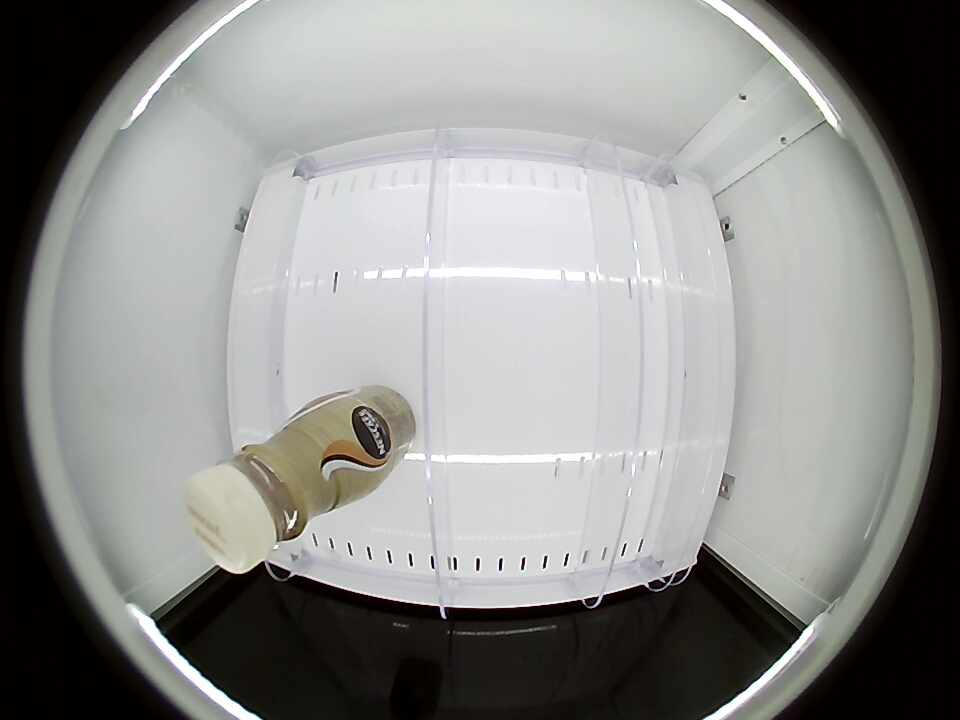kafei: (185, 410, 364, 575)
